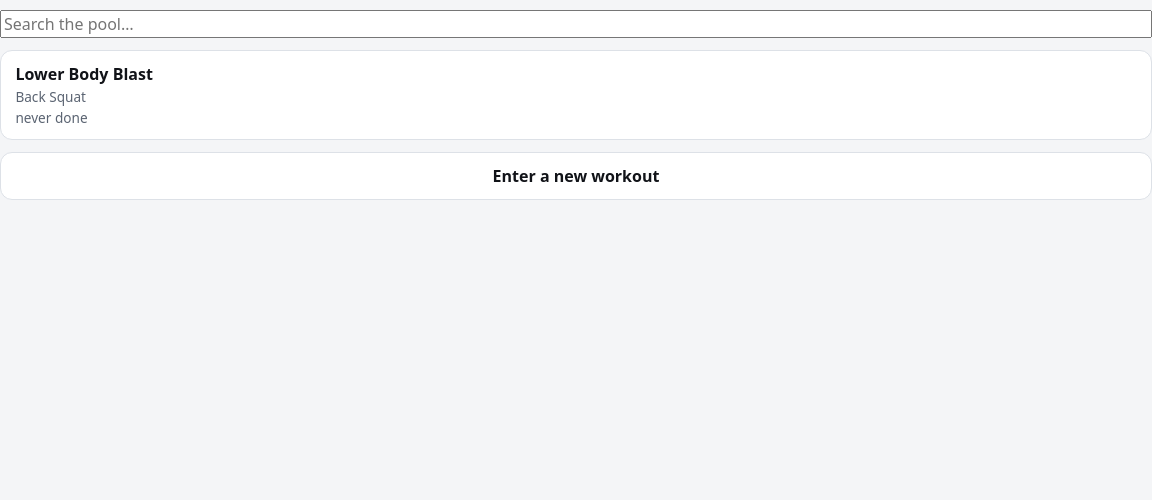
Test case: EnterWorkout ("/enter" screen, SPEC 10.8) › compose mode › the Create row opens the New movement sheet, which adds a new vasa-library movement to the block
Click the button "Enter a new workout".
click(576, 176)  # box [0,152,1151,200]
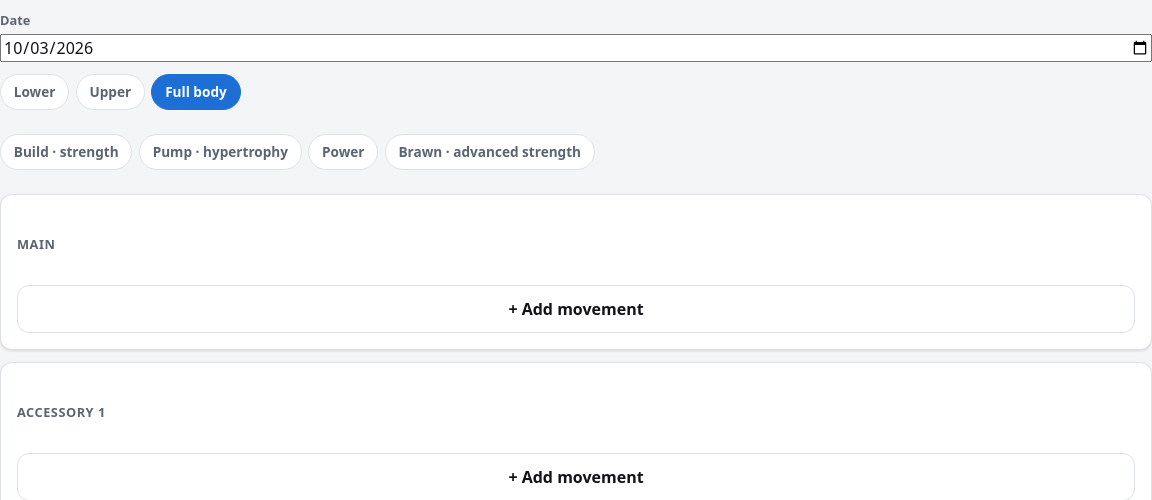
Click the button "+ Add movement" below "Main".
click(576, 309)  # box [17,285,1135,333]
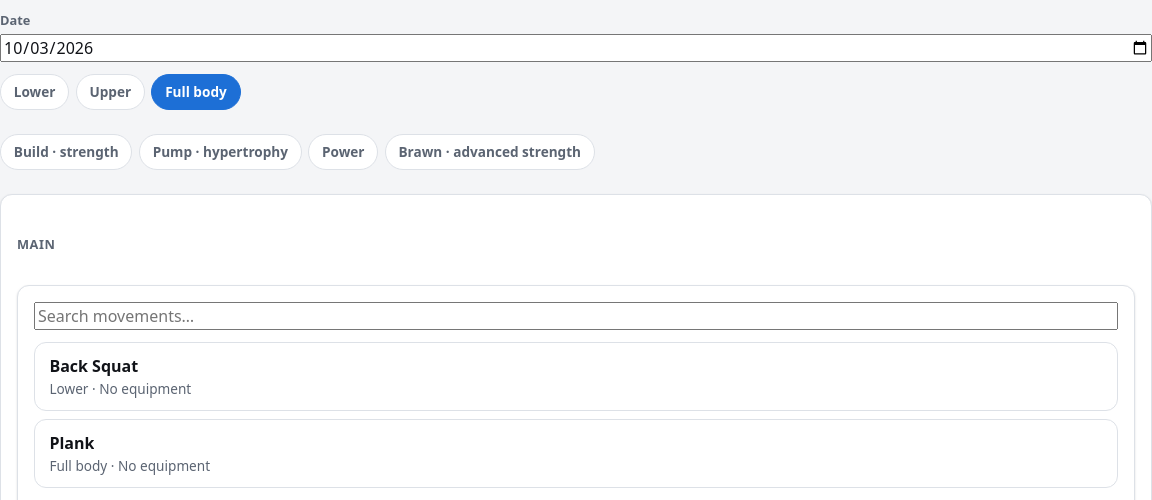
Type "Wall Ball" into the search field with placeholder "Search movements…".
click(576, 316); type("Wall Ball")  # box [34,302,1118,330]
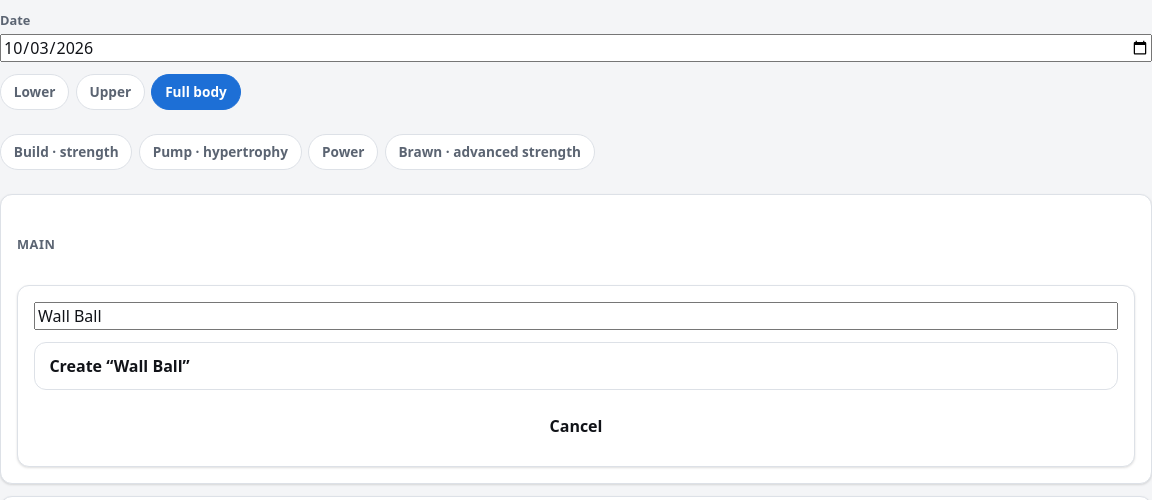
Click the button "Create “Wall Ball”".
click(82, 366)  # box [34,342,1118,390]
(page scrolled)
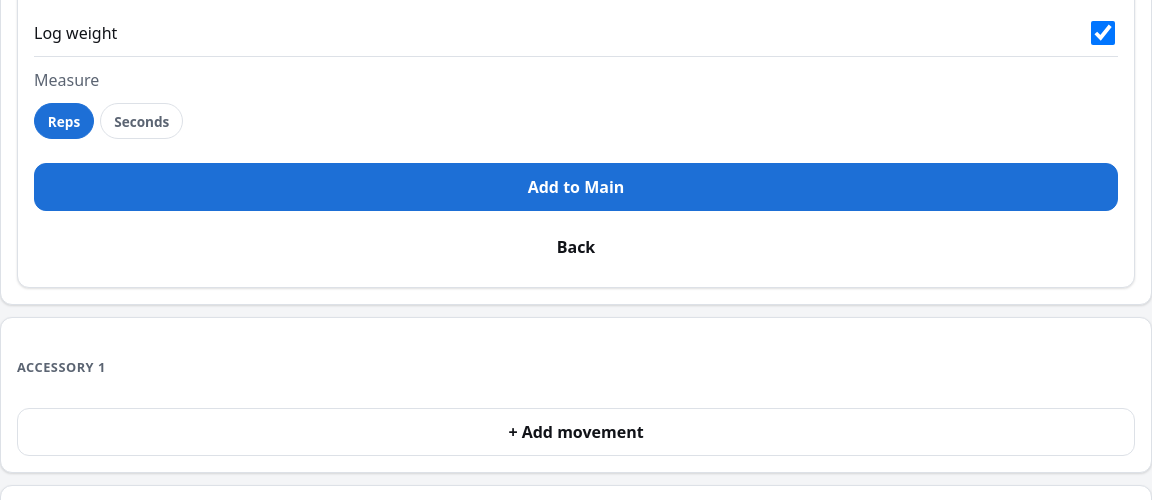
Click the button "Add to Main".
click(576, 187)  # box [34,163,1118,211]
(page scrolled)
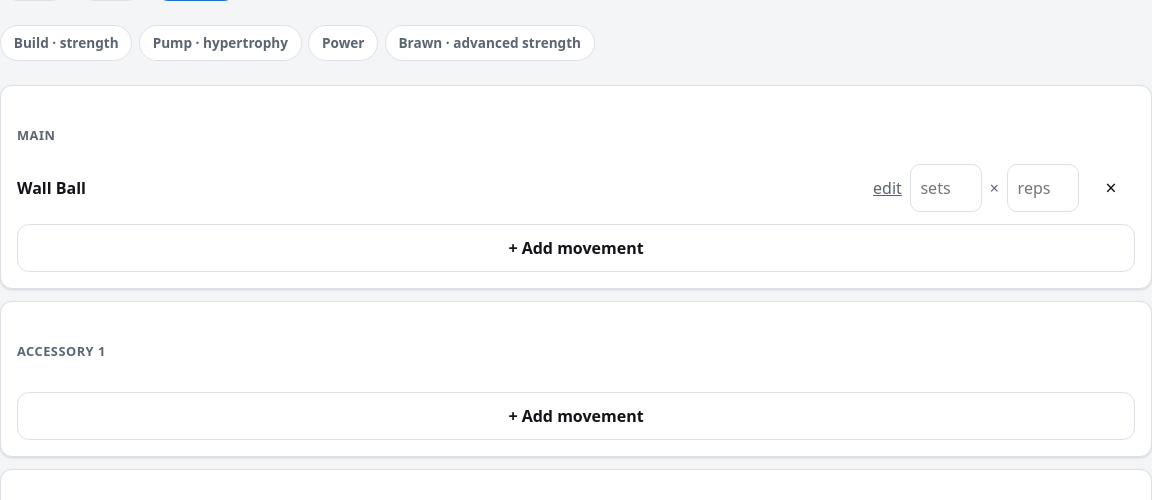
Expected: the text "Wall Ball" is shown, [17,177,86,199]
